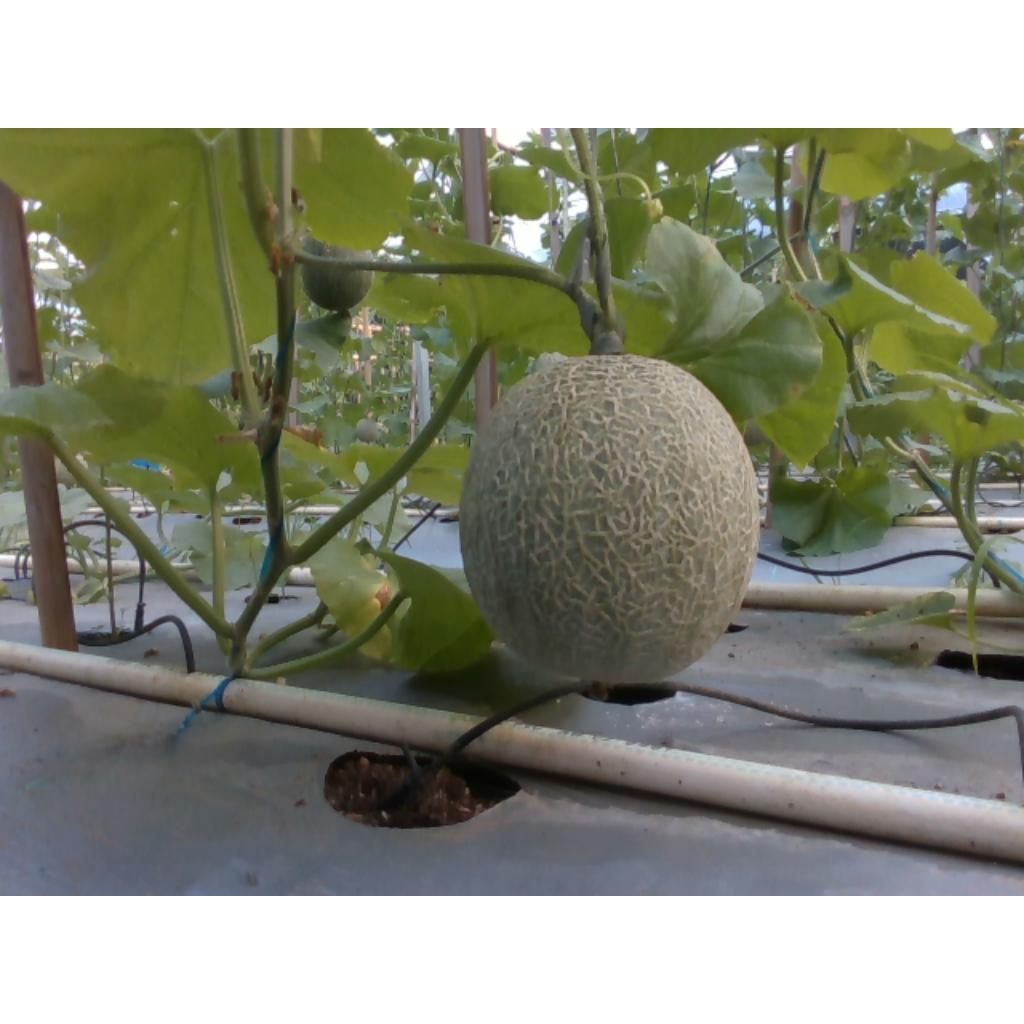melon: (461, 355, 760, 682)
